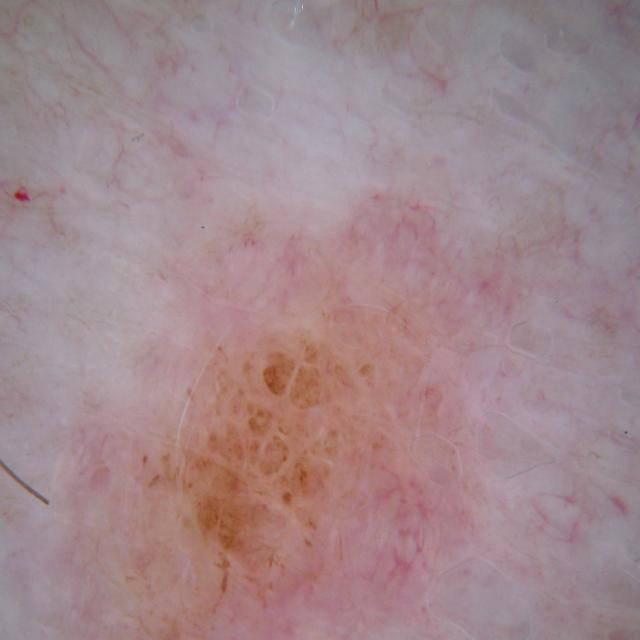Melanoma: (75, 181, 609, 640)
